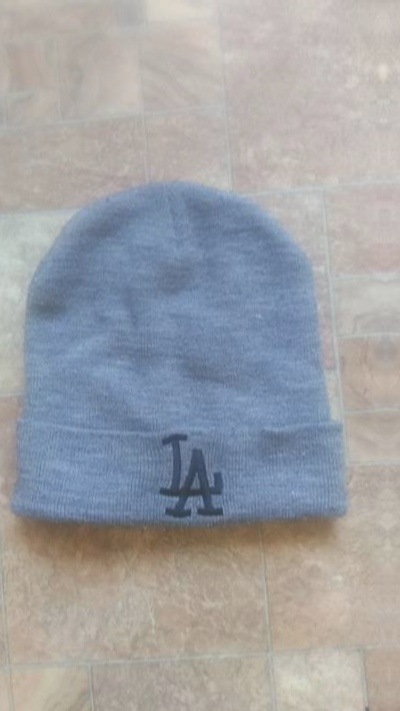Hat: (3, 174, 363, 561)
